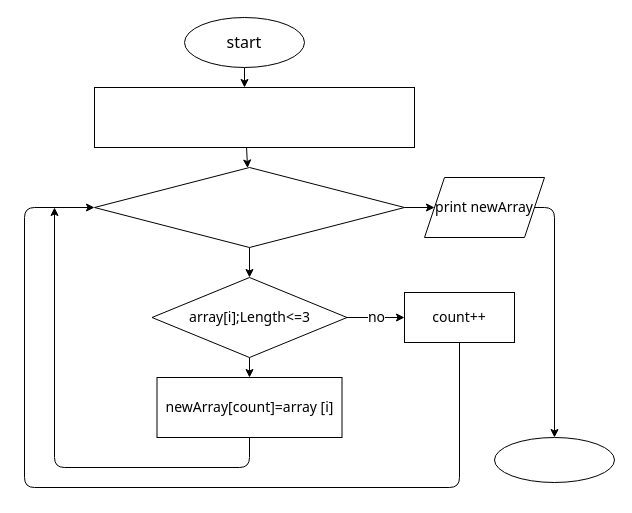
The diagram is 632 pixels wide and 513 high, and some of its shapes have lost their labels. The box of each missing label's shape, as (x1, y1, x2, y2) in pixels:
end: (494, 436, 614, 482)
for (int i =0; i< array.Length-1; i++): (94, 166, 404, 248)
string newArray[]=new string[array.Length] int count = 0: (94, 86, 414, 148)
